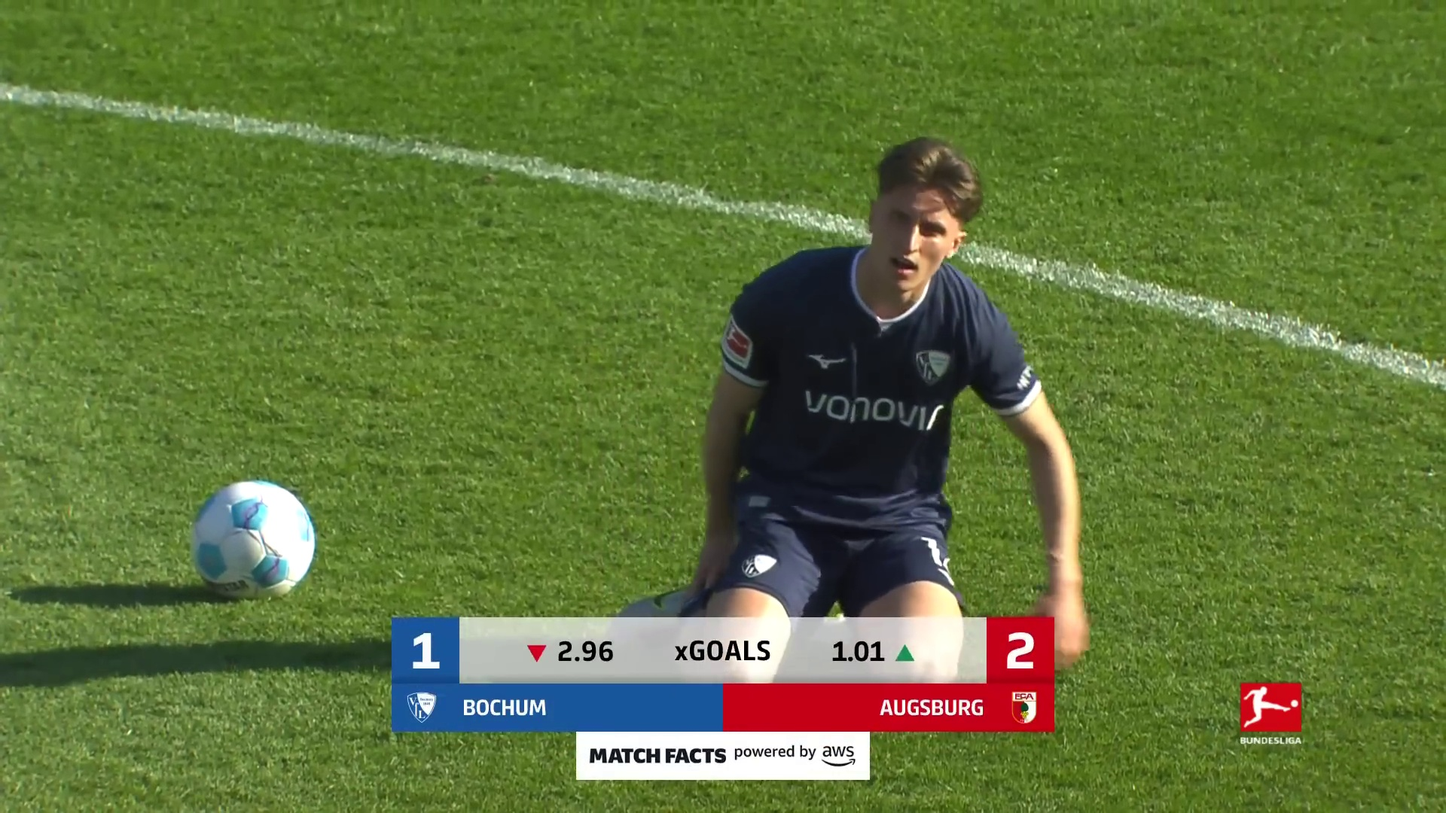ball: (182, 478, 317, 602)
player: (605, 134, 1096, 684)
